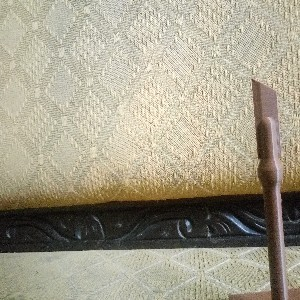cutter: (250, 77, 289, 300)
